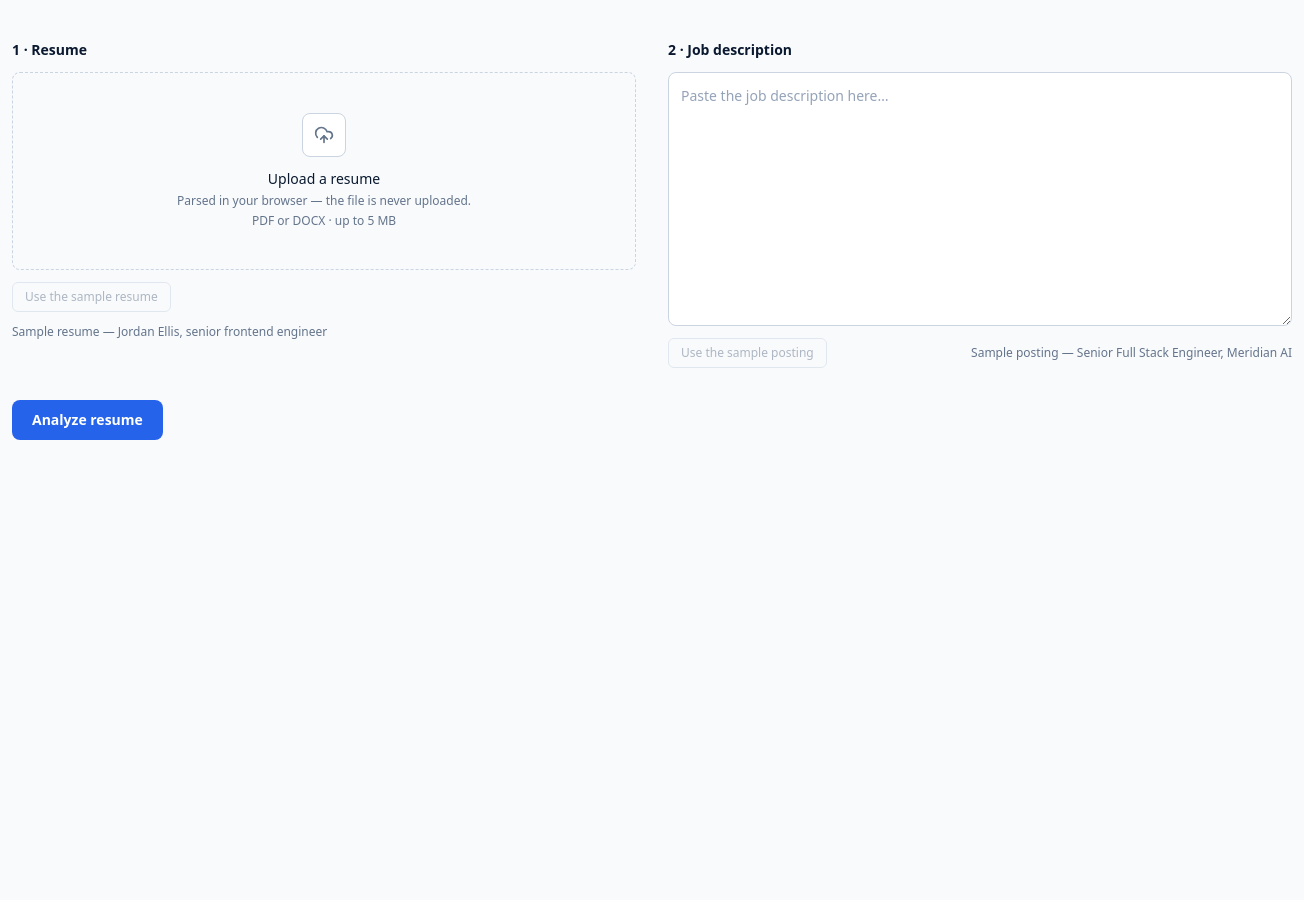
loading state › announces progress while analyzing
Step 1. Click the button "Analyze resume" → click(87, 420), box [12, 400, 163, 440]
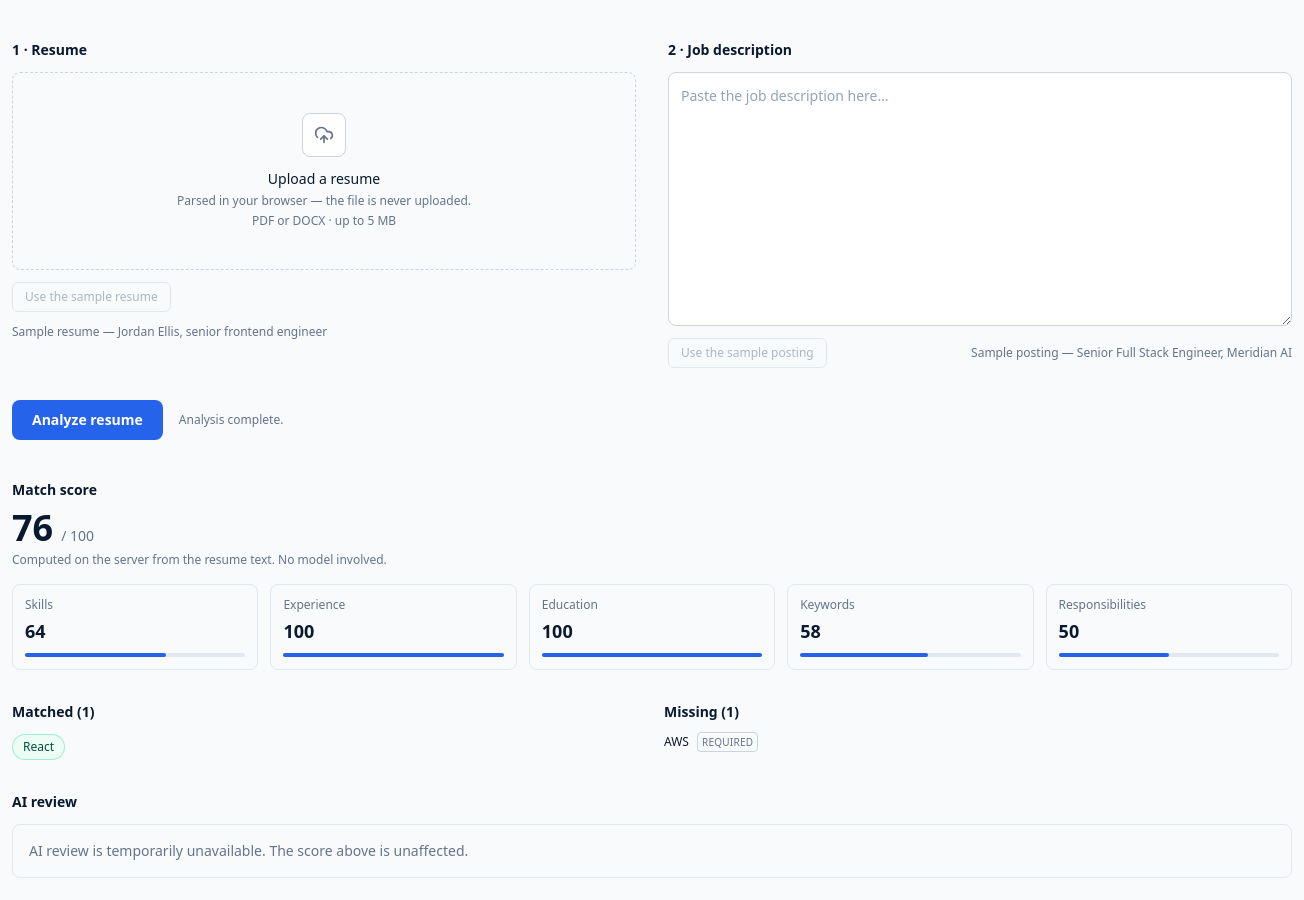
Expected: the text "Analysis complete." is shown, [179, 412, 283, 428]
